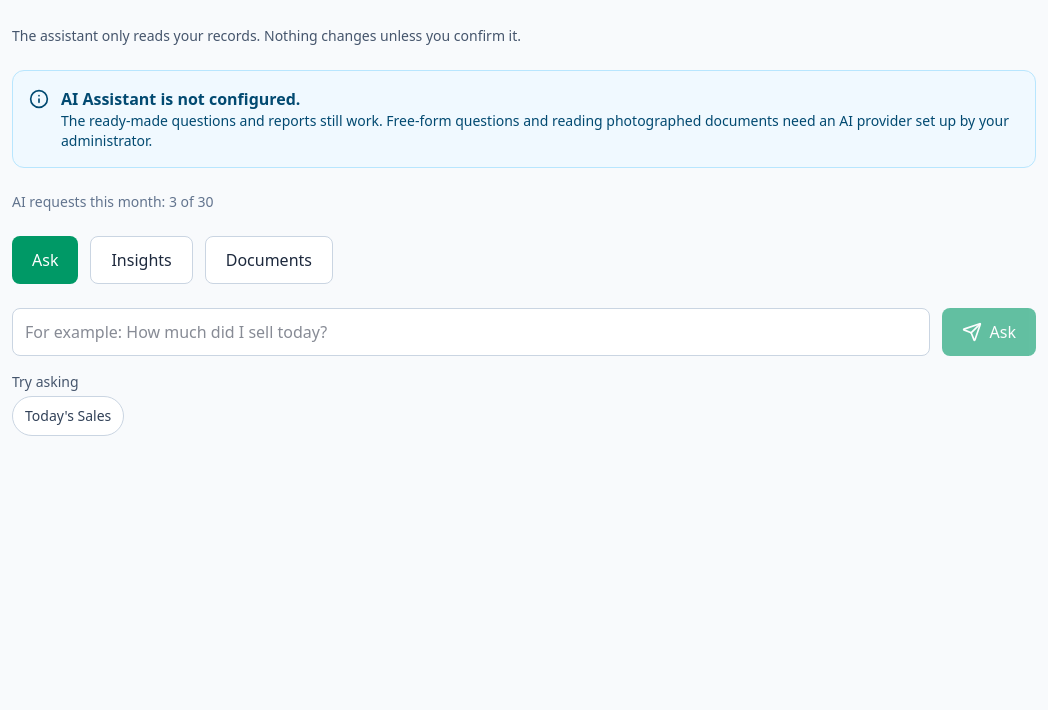
Test: AssistantPage › says "AI Assistant is not configured." while suggested questions still work
This screenshot has width=1048, height=710.
Check: the text "AI Assistant is not configured." is shown, box [61,88,300,110]
Click the button "Today's Sales" at [68, 416], box [12,396,124,436]
(page scrolled)
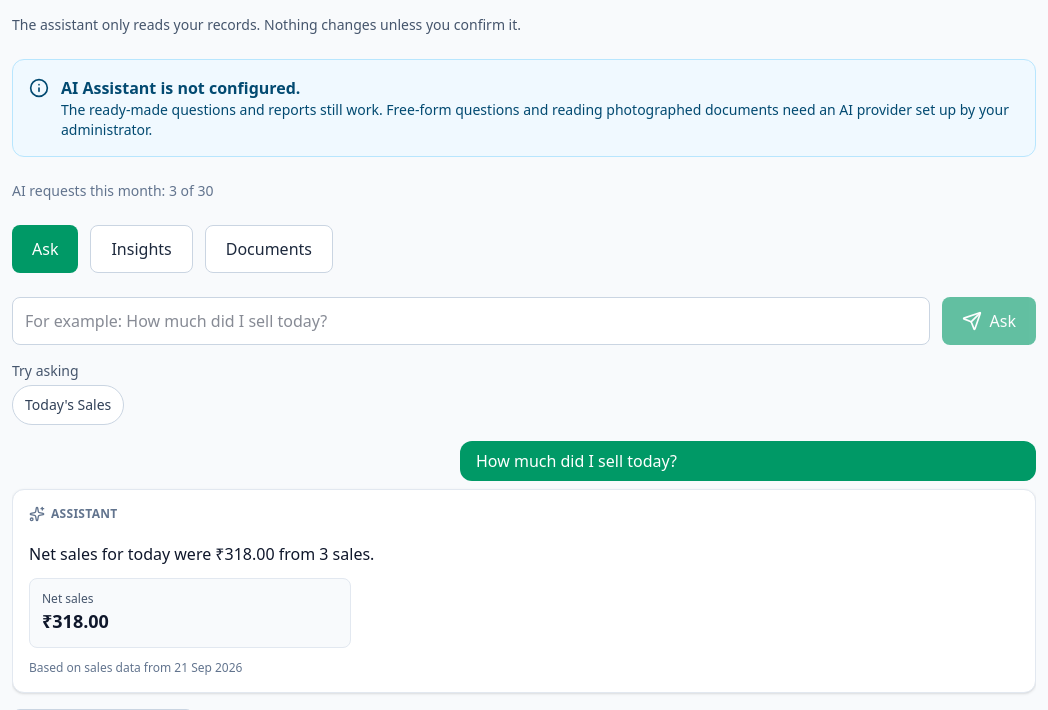
Check: the text "AI requests this month: 3 of 30" is shown, box [12,181,214,200]
Check: the text "Net sales for today were ₹318.00 from 3 sales." is shown, box [29,543,374,565]
